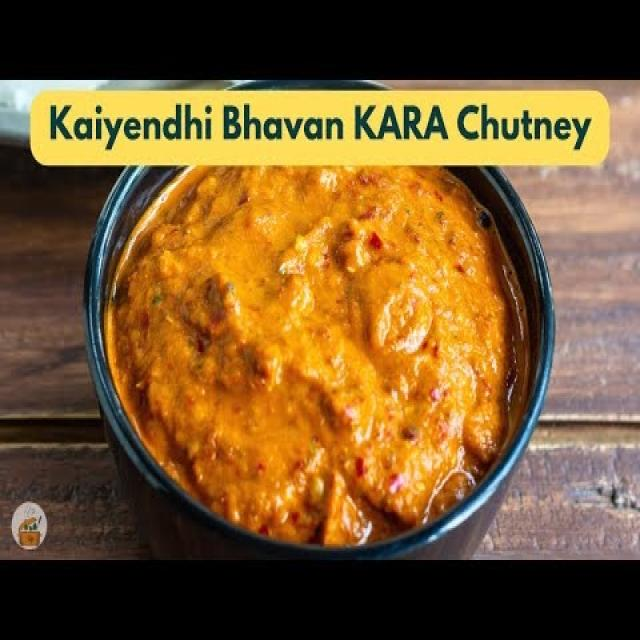kaara chutney: (79, 164, 561, 553)
